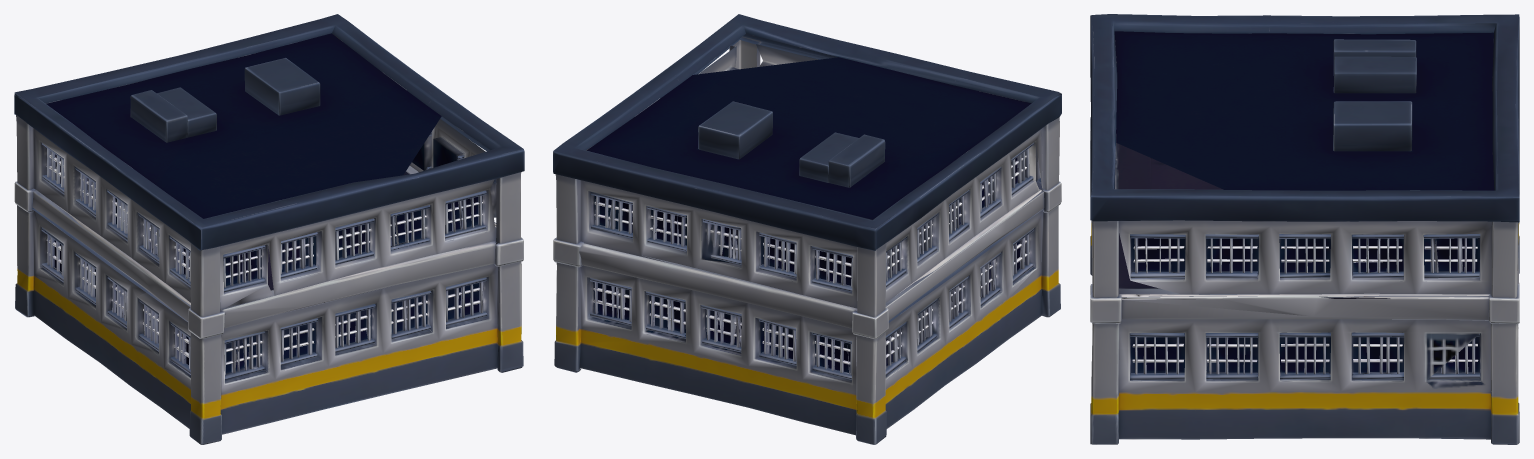
Rendered from cellblock.glb.
The picture shows the model from 3 angles, left to right: view 1: azimuth 30°, elevation 25°; view 2: azimuth 150°, elevation 25°; view 3: azimuth 270°, elevation 25°; orthographic projection. The views are drawn at different scales.
Visible parts, largest first — view 1: geometry_0; view 2: geometry_0; view 3: geometry_0.
Part boxes in pixels (x1,y1,x2,y2): geometry_0: (14,14,524,444); geometry_0: (553,14,1061,444); geometry_0: (1090,14,1519,444).
Bounding box in the file's own units: 1 × 0.6876 × 1.
1 material, 1 textured.
